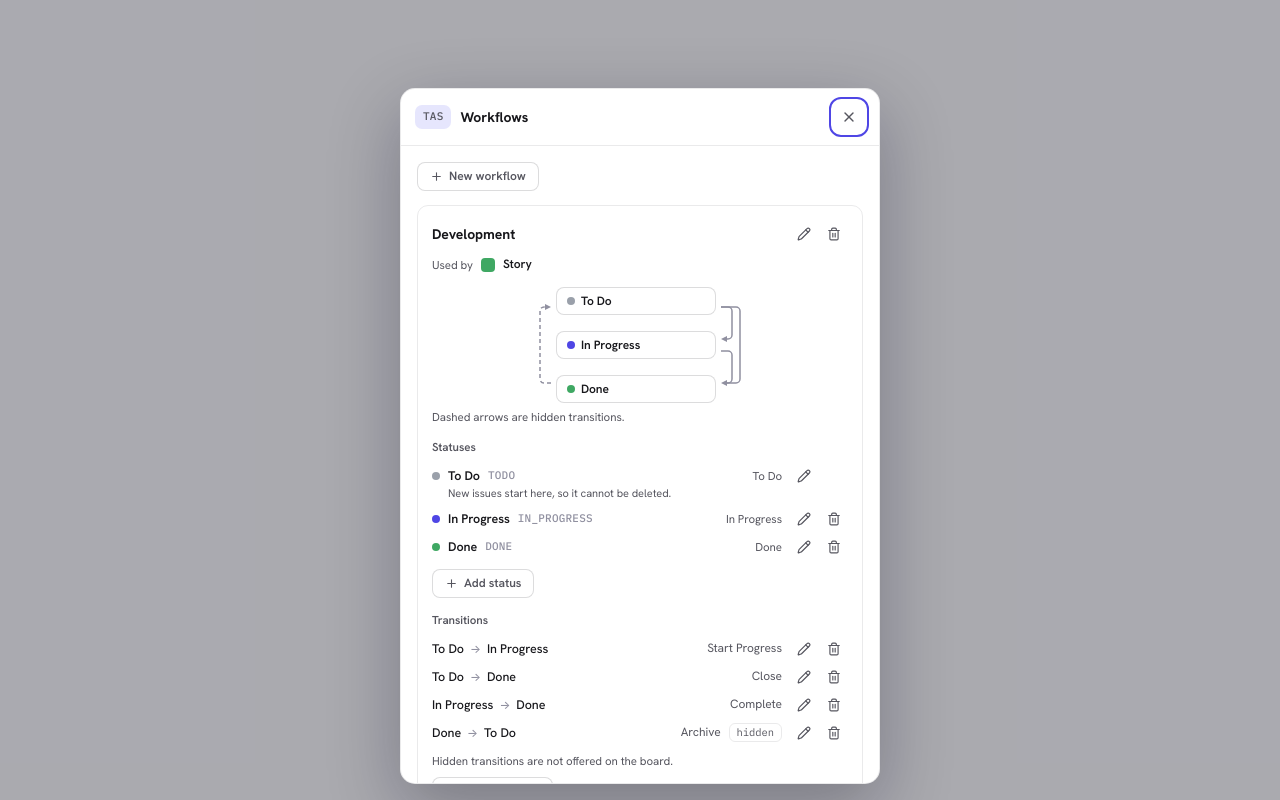
Add status › says why the submit is off for a taken key or a key the server will not take, one reason at a time
The width and height of the screenshot is (1280, 800).
Step 1. Click the button "Add status" → coordinates (483, 584), box [432,569,534,598]
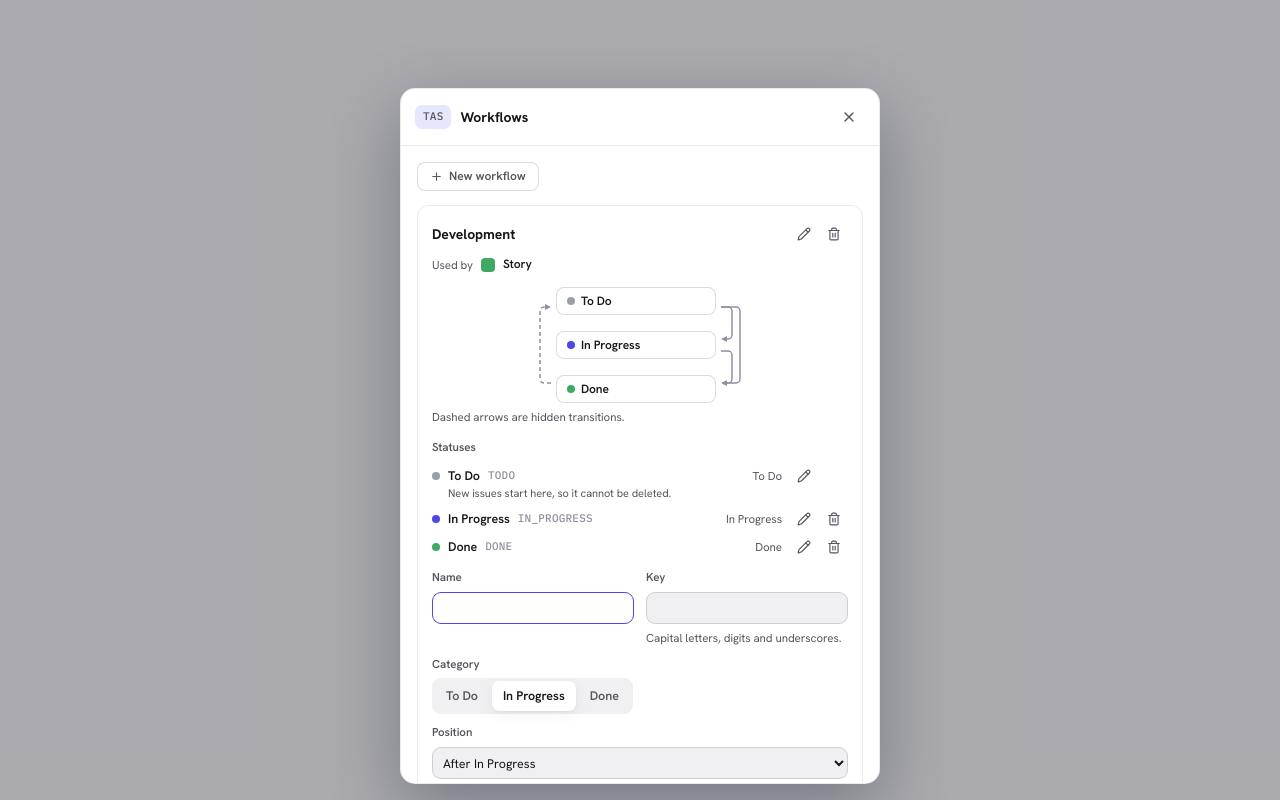
Step 2. Type "Done" into the field labelled "Name" → coordinates (533, 608), box [432,592,634,624]
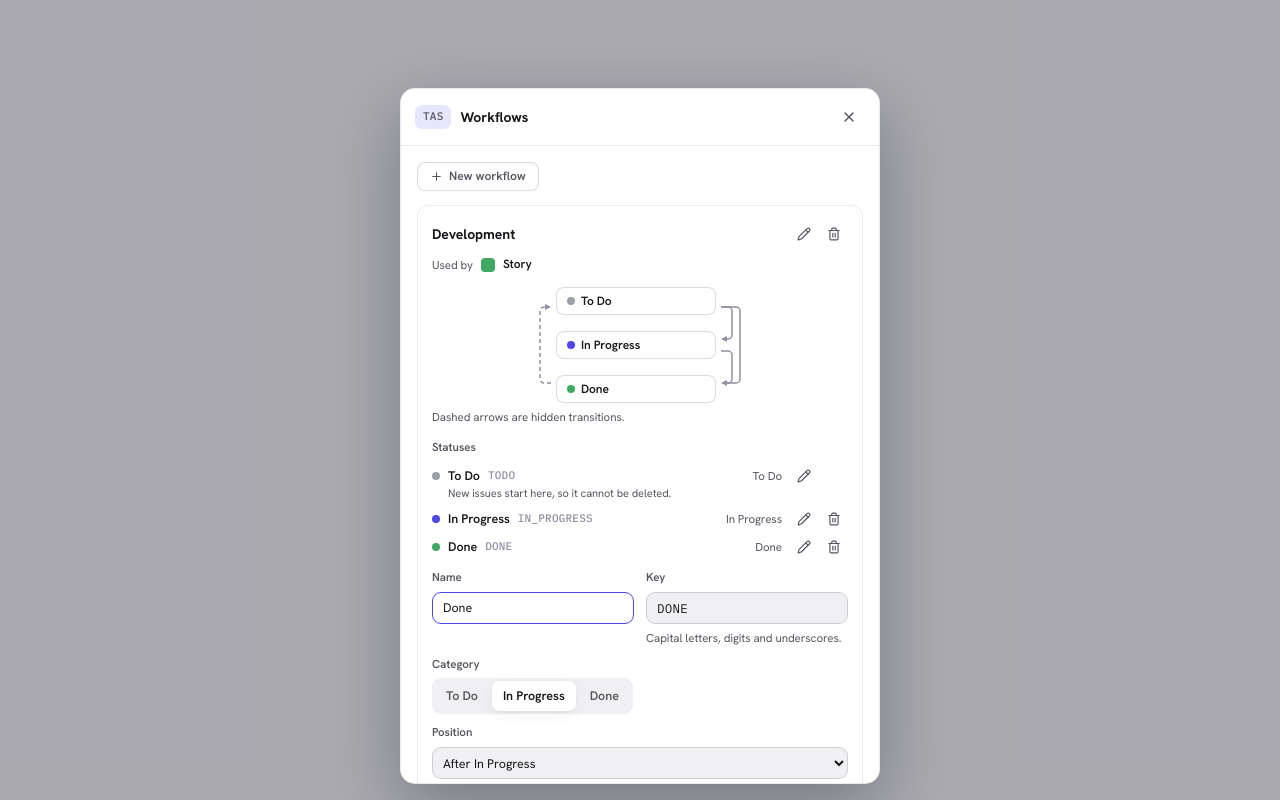
Step 3. Replace the text in the field labelled "Key" with "Q" → coordinates (747, 608), box [646,592,848,624]
(page scrolled)
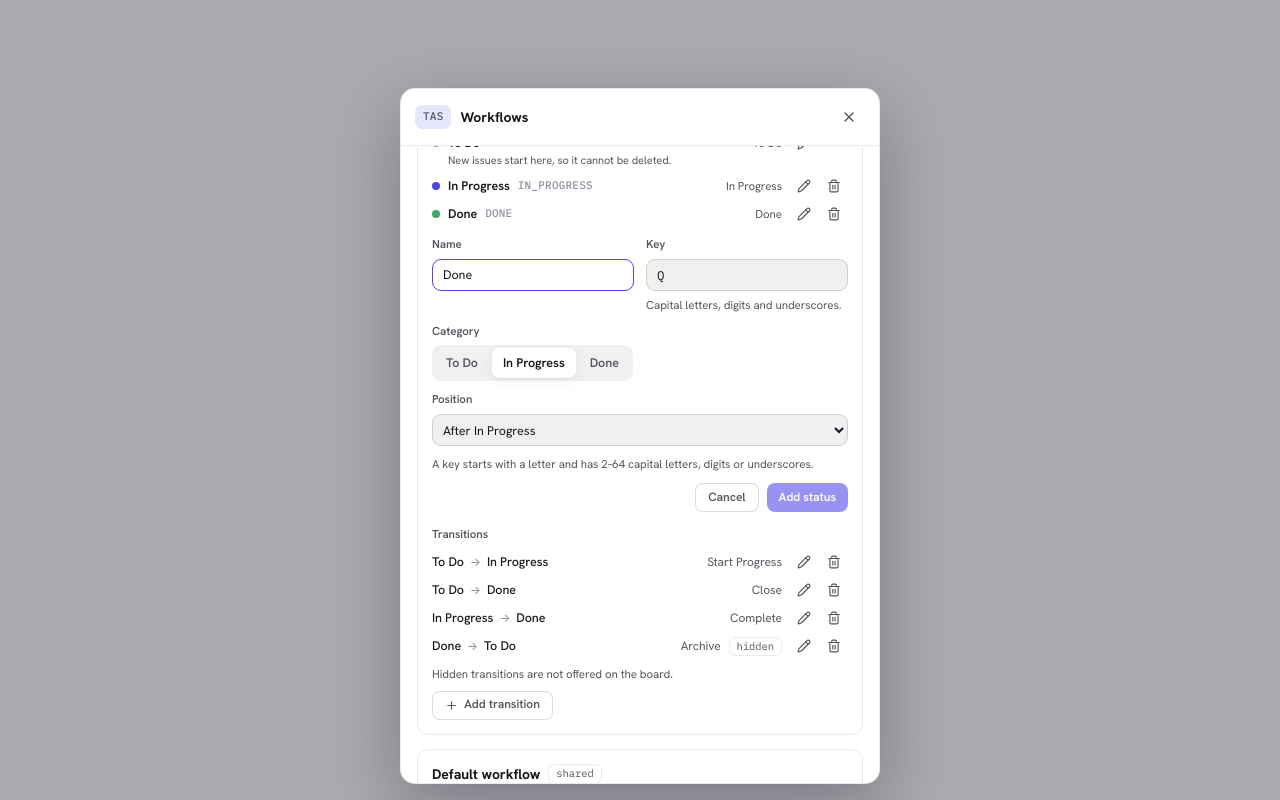
Expected: the text "already a status" is not shown
Expected: the text "A key starts with a letter and has 2–64 capital letters, digits or underscores." is shown, [432,456,848,473]
